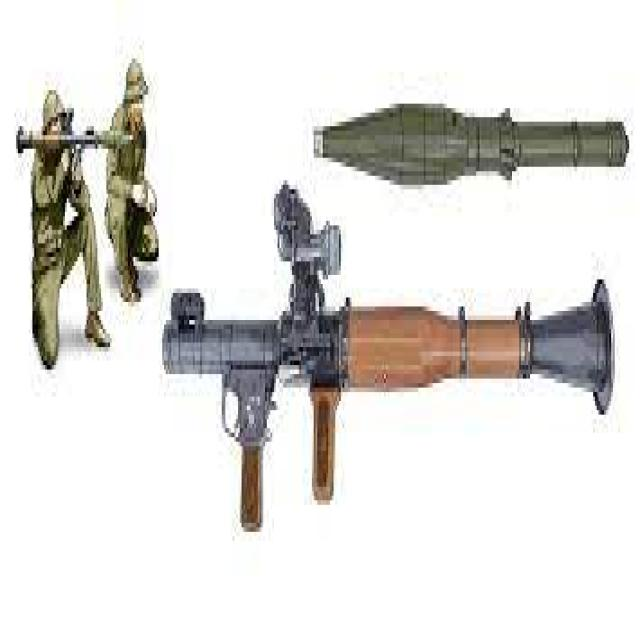Gun: (163, 208, 640, 527)
